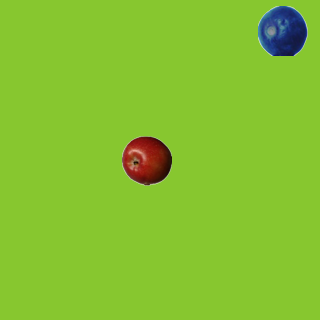Apple Braeburn: (121, 135, 171, 185)
Huckleberry: (257, 5, 307, 55)
